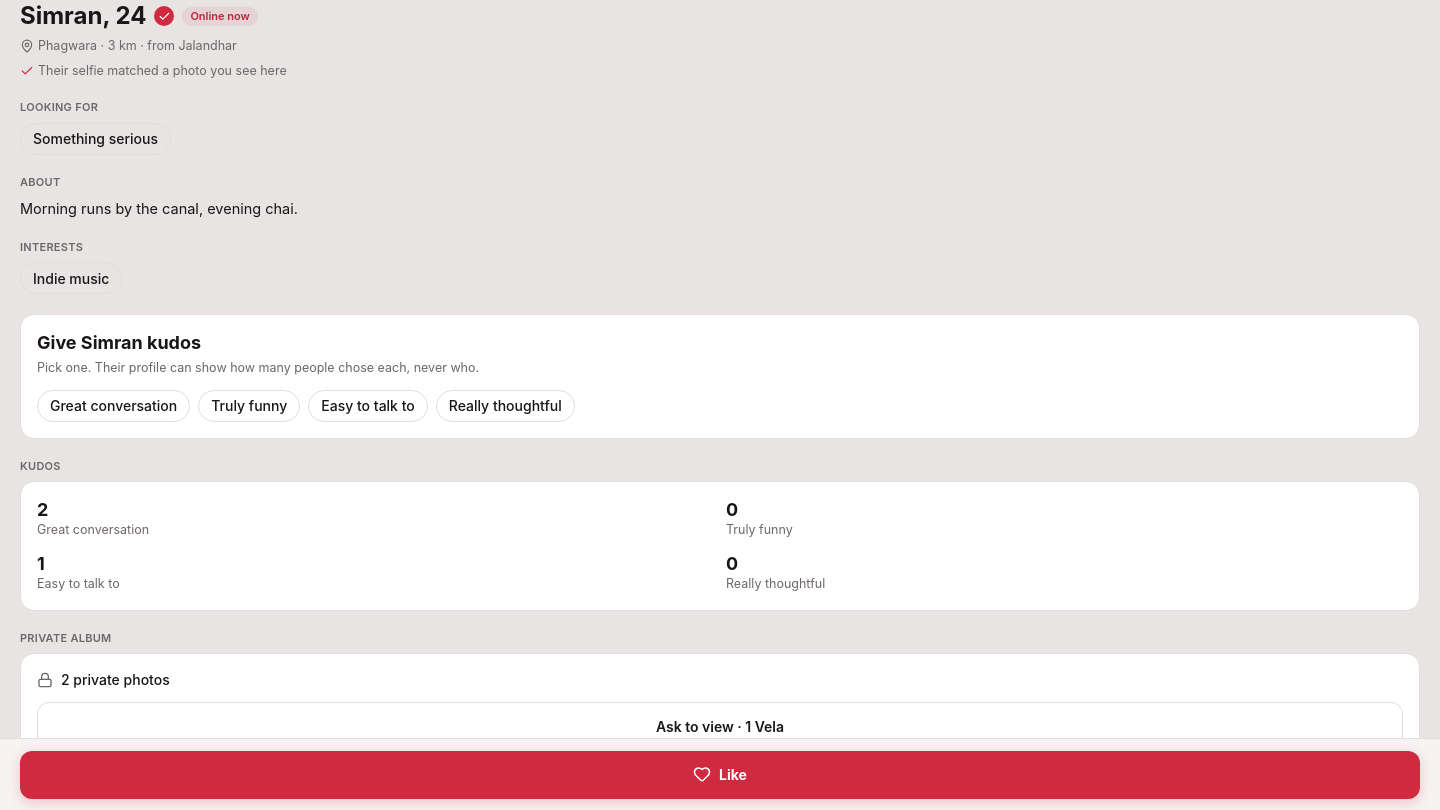
Scenario: the kudos prompt (T-8.8, D-790) › gives the kind tapped, and goes once the profile says given
The image size is (1440, 810).
(page scrolled)
Click the button "Easy to talk to".
click(368, 406)  # box top-left (308, 390), bottom-right (428, 422)
(page scrolled)
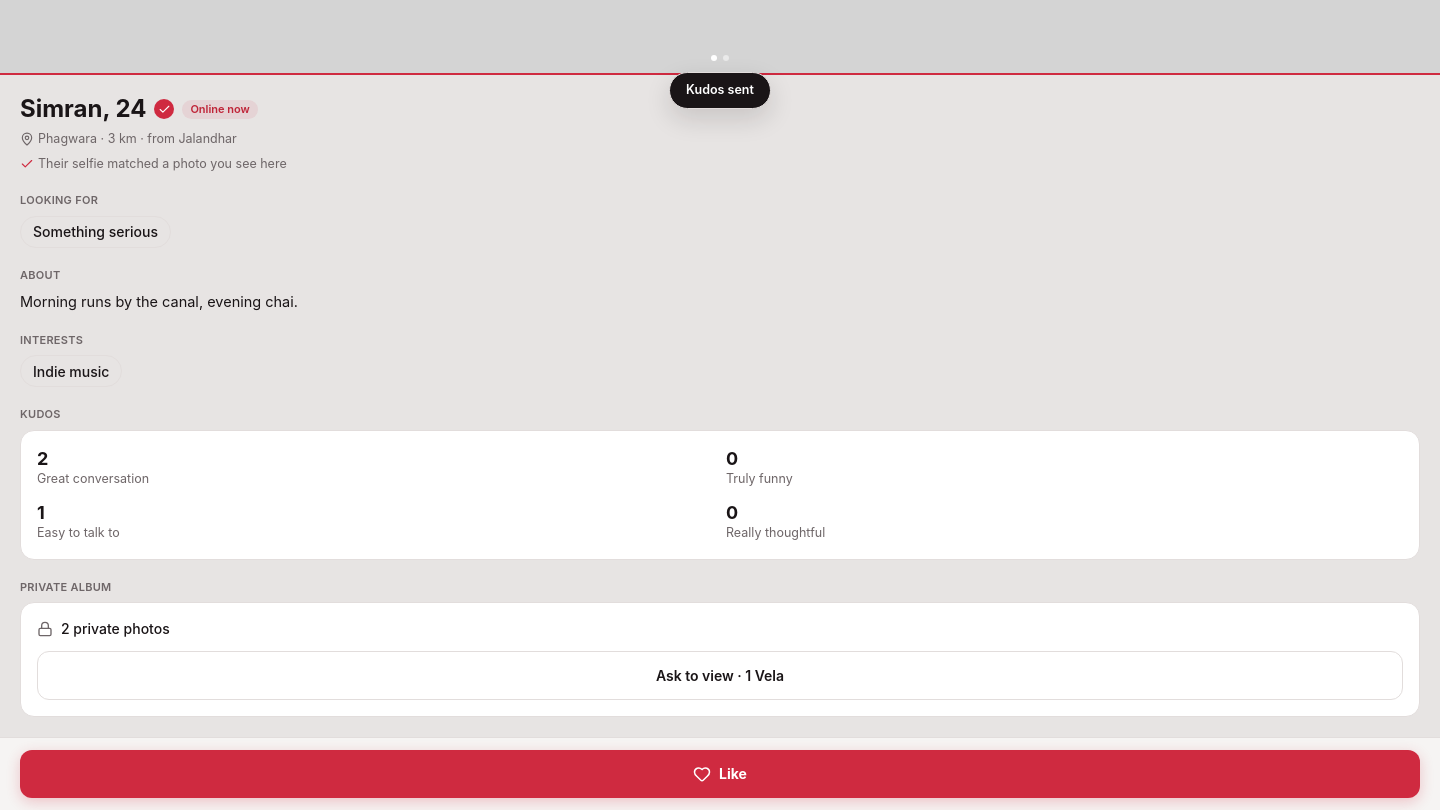
Now the text "Kudos sent" is shown, box top-left (686, 81), bottom-right (754, 100)
